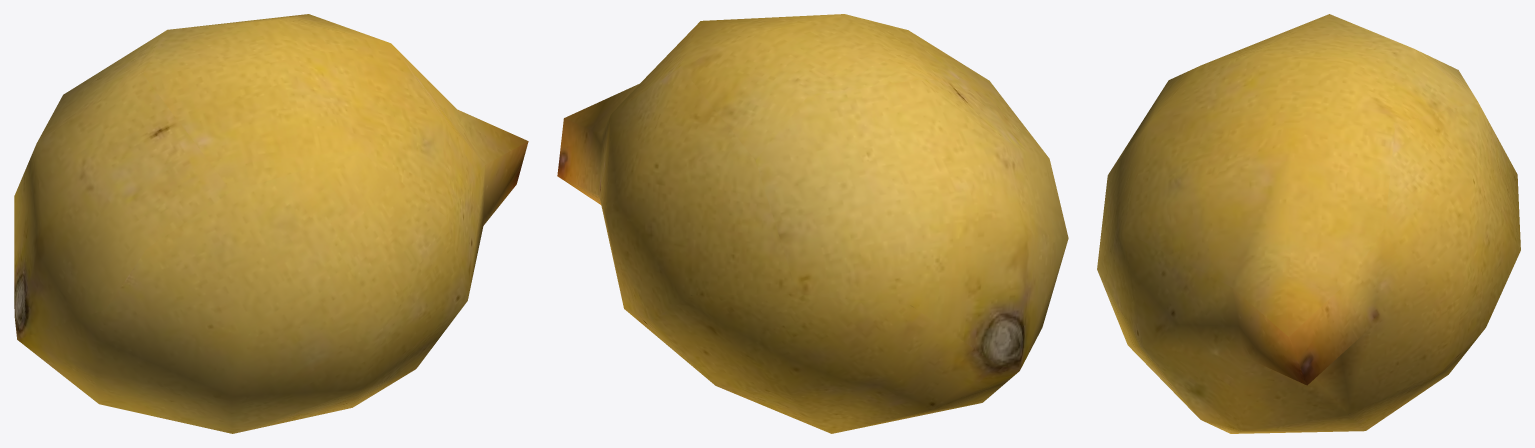
Rendered from lemon.glb.
The picture shows the model from 3 angles, left to right: view 1: azimuth 30°, elevation 25°; view 2: azimuth 150°, elevation 25°; view 3: azimuth 270°, elevation 25°; orthographic projection. The views are drawn at different scales.
Visible parts, largest first — view 1: th5jddwva_LOD0_TIER3_000; view 2: th5jddwva_LOD0_TIER3_000; view 3: th5jddwva_LOD0_TIER3_000.
Boxes of the visible parts, x1=… form: th5jddwva_LOD0_TIER3_000: x1=14, y1=14, x2=528, y2=433; th5jddwva_LOD0_TIER3_000: x1=557, y1=14, x2=1068, y2=433; th5jddwva_LOD0_TIER3_000: x1=1097, y1=14, x2=1520, y2=433.
Size of the model in its own units: 0.0693 by 0.0502 by 0.0526.
Materials: 1 (1 with a texture image).
